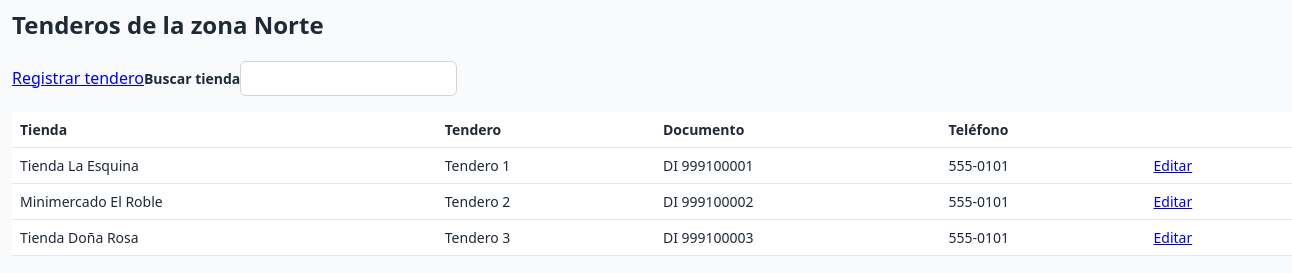
Test: Tenderos · Buscar tienda (HU-103) › CA2: con 3 caracteres pide a la API solo las tiendas que coinciden y muestra solo esas
Expected: the text "Minimercado El Roble" is shown, 12,183 -> 437,219
Type "esq" into the search field labelled "Buscar tienda" at [349, 78], box 240,61 -> 457,96
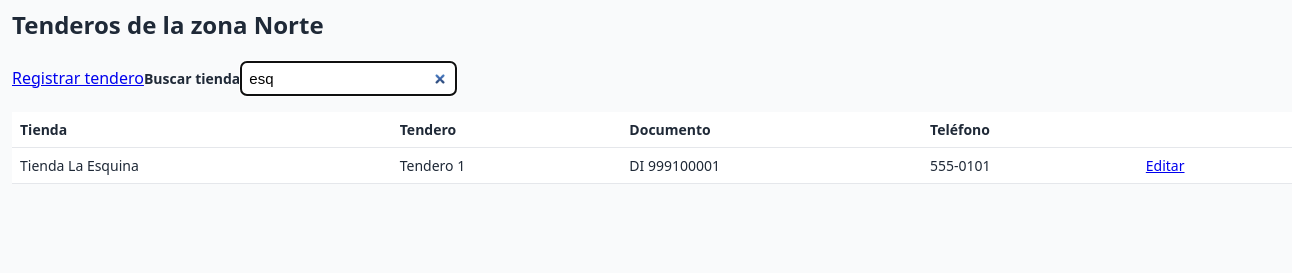
Expected: the text "Tienda La Esquina" is shown, 12,147 -> 392,183
Result: the text "Minimercado El Roble" is gone
